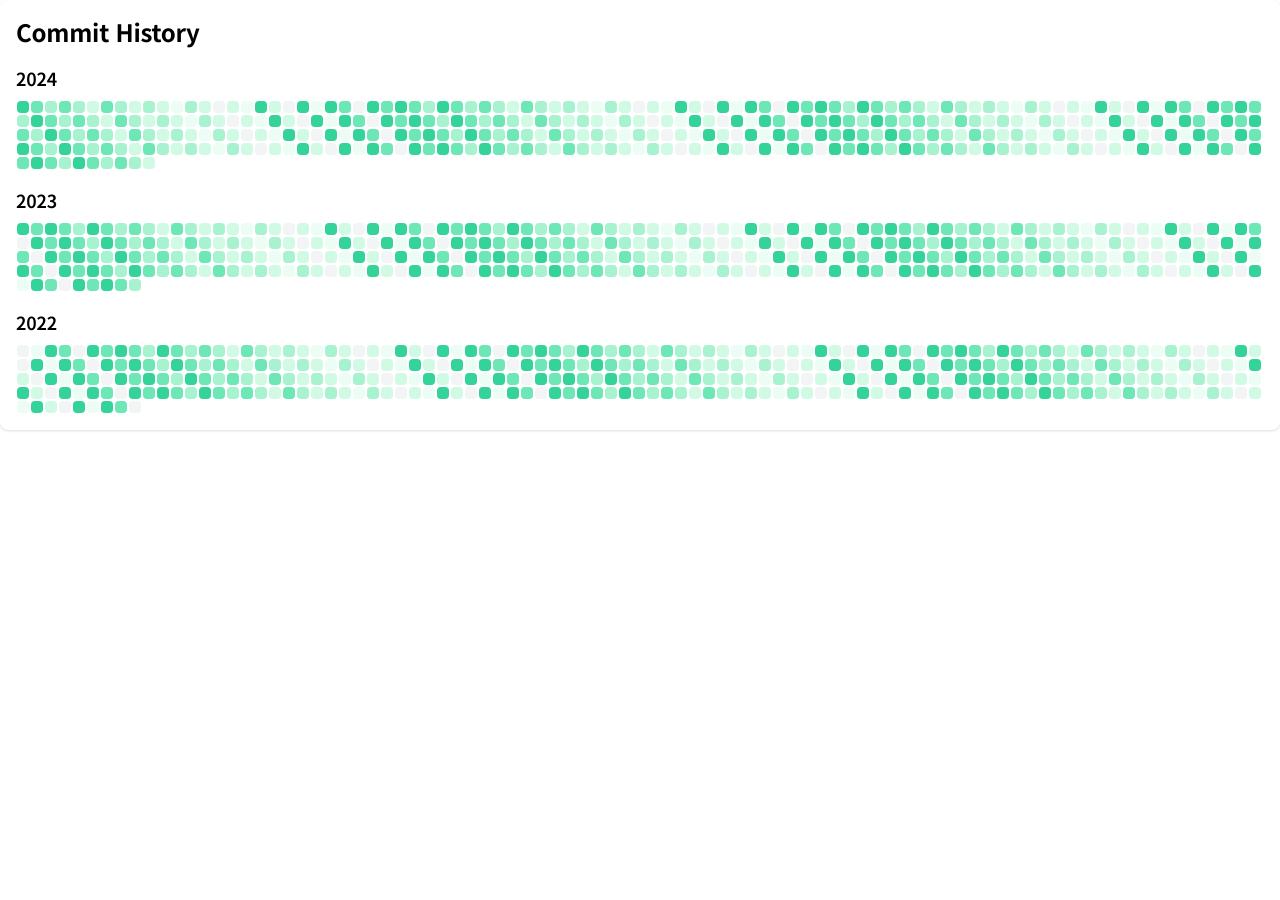
Test: RecordGraph Component (app/component/record-graph.tsx) › opens modal dialog showing training records when a day cell is clicked
The width and height of the screenshot is (1280, 900).
Click the button named "2024-01-01: 8회 수련".
click(23, 107)  # box [17,101,29,113]
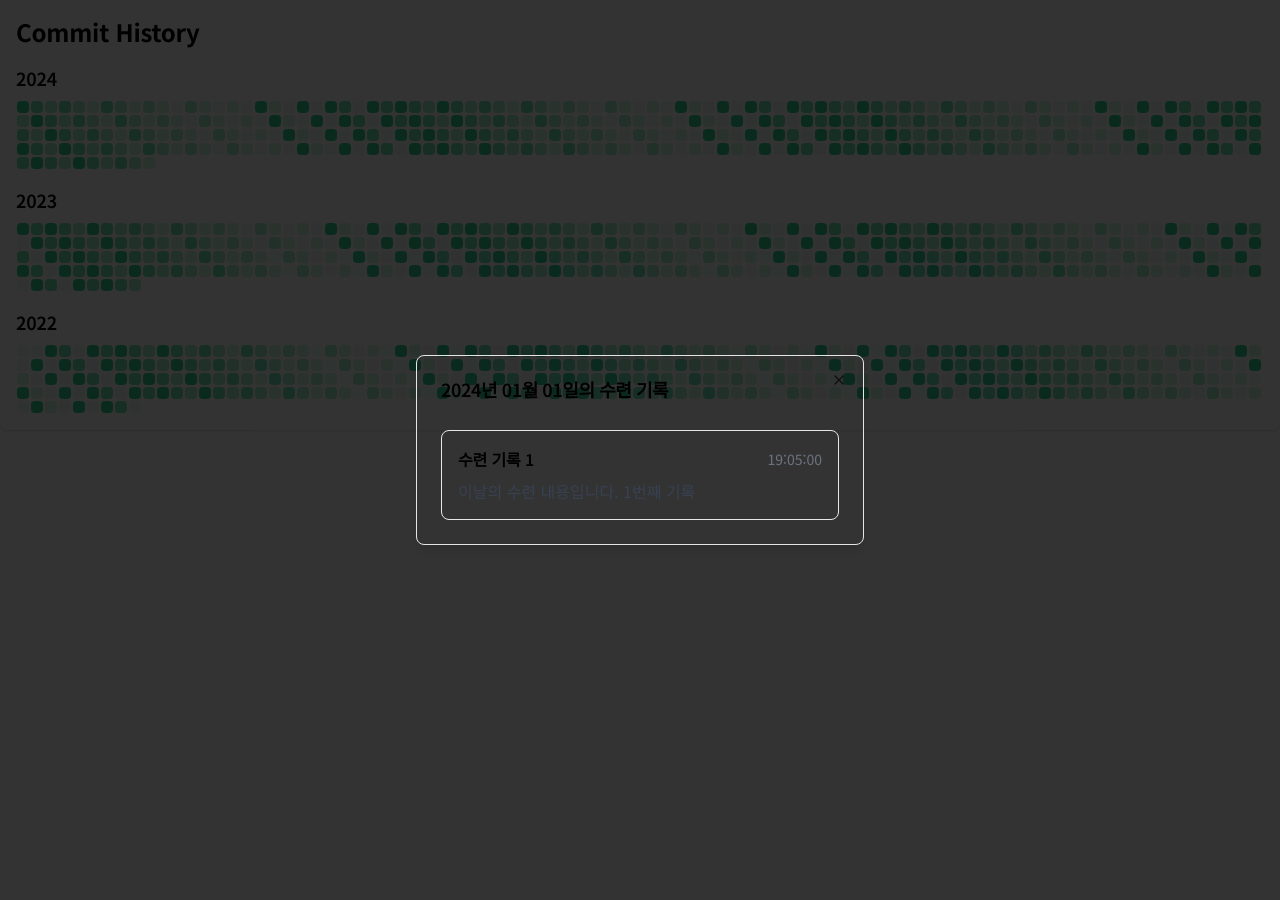
Now the dialog is shown, box [416,355,864,545]
Now the heading "2024년 01월 01일의 수련 기록" is shown, box [441,376,668,402]
